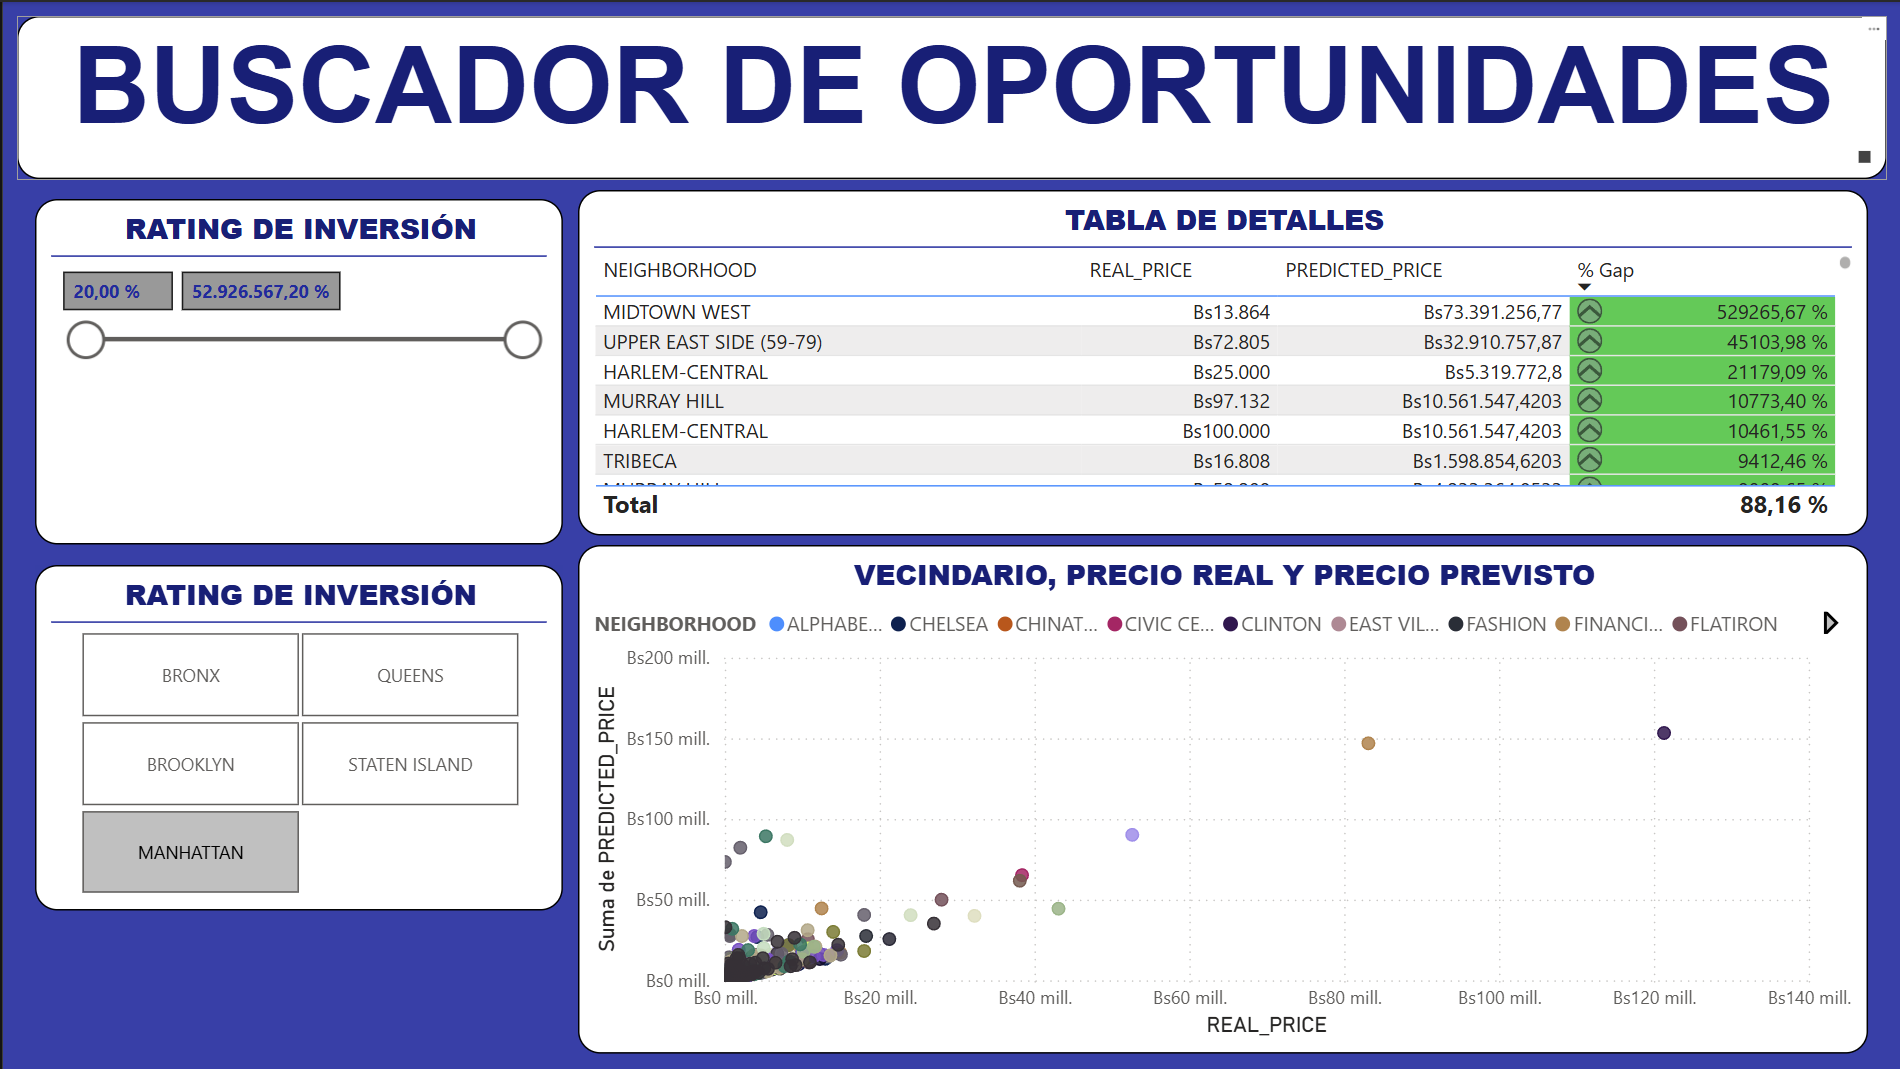

Layout of this report page (visuals, bound fields, positions):
{"tool":"powerbi","page":{"name":"Página 3","canvas":[1280,720],"ordinal":2},"visuals":[{"type":"textbox","title":"BUSCADOR DE OPORTUNIDADES","box":[9.6,9.6,1260.9,110.2],"z":0},{"type":"scatterChart","title":"VECINDARIO, PRECIO REAL Y PRECIO PREVISTO","fields":{"X":["Fact_Predictions.REAL_PRICE"],"Y":["Sum(Fact_Predictions.PREDICTED_PRICE)"],"Series":["Dim_Location.NEIGHBORHOOD"]},"box":[387.7,366,870,342.9],"z":1000},{"type":"tableEx","title":"TABLA DE DETALLES","fields":{"Values":["Dim_Location.NEIGHBORHOOD","Fact_Predictions.REAL_PRICE","Fact_Predictions.PREDICTED_PRICE","Fact_sales.% Gap"]},"box":[387.7,126.7,870,233.3],"z":2000},{"type":"slicer","title":"RATING DE INVERSIÓN","fields":{"Values":["Fact_Predictions.GAP_PERCENTAGE"]},"box":[21.6,132.7,356.3,233.3],"z":3000},{"type":"slicer","title":"RATING DE INVERSIÓN","fields":{"Values":["Dim_Location.BOROUGH"]},"box":[21.6,379.5,356.3,233.3],"z":4000}]}

Visuals, with their boxes in screenshot pixels (x1, y1, x2, y2), scaled from the page's 1280x720 canvas onto the 1900x1069 screenshot:
"BUSCADOR DE OPORTUNIDADES" textbox: {"left": 14, "top": 14, "right": 1886, "bottom": 178}
"VECINDARIO, PRECIO REAL Y PRECIO PREVISTO" scatterChart: {"left": 575, "top": 543, "right": 1867, "bottom": 1053}
"TABLA DE DETALLES" tableEx: {"left": 575, "top": 188, "right": 1867, "bottom": 534}
"RATING DE INVERSIÓN" slicer: {"left": 32, "top": 197, "right": 561, "bottom": 543}
"RATING DE INVERSIÓN" slicer: {"left": 32, "top": 563, "right": 561, "bottom": 910}
